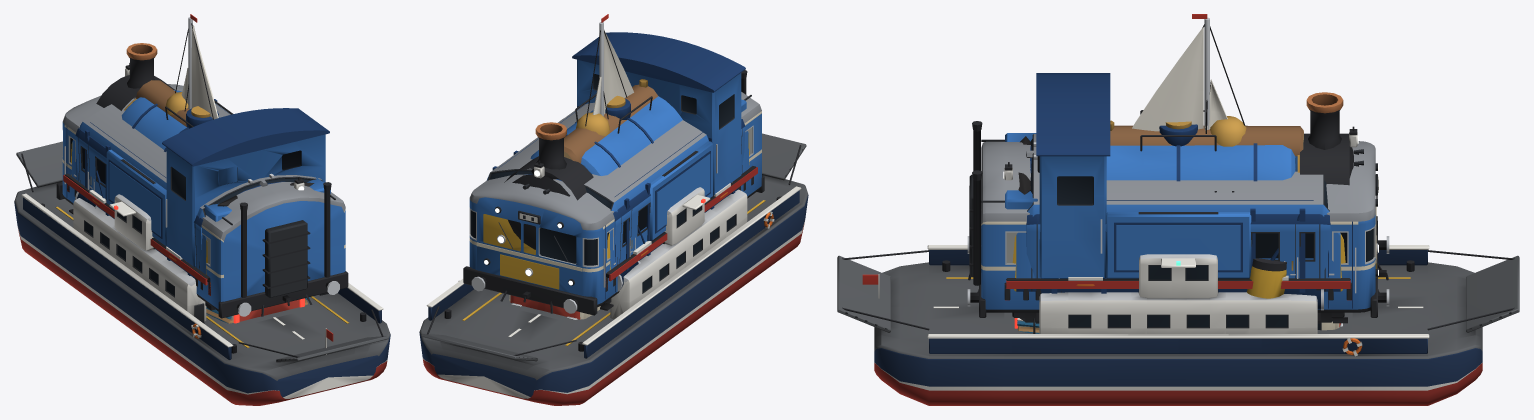
File: vehicles-cc7dd9cc.glb
3 renders of one model, left to right at view 1: azimuth 30°, elevation 25°; view 2: azimuth 150°, elevation 25°; view 3: azimuth 270°, elevation 25°, orthographic. The views are drawn at different scales.
Visible parts, largest first — view 1: ferry-body, loco_steam-body, dmu_car-body, loco_diesel-body, wagon_tank-body, coach-body, sailboat-body, wagon_logs-body, wagon_box-body, bus-body; view 2: ferry-body, loco_steam-body, dmu_car-body, loco_diesel-body, wagon_tank-body, sailboat-body, coach-body, wagon_logs-body, wagon_box-body, bus-body; view 3: ferry-body, loco_steam-body, dmu_car-body, loco_diesel-body, wagon_tank-body, coach-body, sailboat-body, wagon_logs-body, wagon_box-body.
Boxes of the visible parts, box(x1,y1,x2,y2) form: ferry-body: box(14, 141, 390, 405); loco_steam-body: box(63, 43, 330, 295); dmu_car-body: box(56, 84, 348, 318); loco_diesel-body: box(67, 89, 322, 305); wagon_tank-body: box(121, 90, 232, 280); coach-body: box(74, 128, 284, 290); sailboat-body: box(175, 14, 218, 119); wagon_logs-body: box(135, 80, 197, 286); wagon_box-body: box(85, 99, 230, 286); bus-body: box(230, 298, 304, 323); ferry-body: box(419, 133, 808, 405); loco_steam-body: box(504, 32, 757, 291); dmu_car-body: box(463, 70, 764, 315); loco_diesel-body: box(483, 102, 753, 302); wagon_tank-body: box(530, 93, 738, 189); sailboat-body: box(585, 14, 633, 126); coach-body: box(524, 119, 745, 286); wagon_logs-body: box(564, 84, 740, 189); wagon_box-body: box(492, 104, 740, 270); bus-body: box(509, 295, 600, 319); ferry-body: box(837, 245, 1519, 405); loco_steam-body: box(1003, 73, 1358, 310); dmu_car-body: box(967, 121, 1389, 323); loco_diesel-body: box(1004, 134, 1351, 321); wagon_tank-body: box(1035, 110, 1320, 299); coach-body: box(1023, 145, 1333, 300); sailboat-body: box(1132, 14, 1245, 133); wagon_logs-body: box(1036, 125, 1303, 300); wagon_box-body: box(1035, 200, 1313, 299).
Bounding box in the file's own units: 0.1973 × 0.3315 × 0.55.
